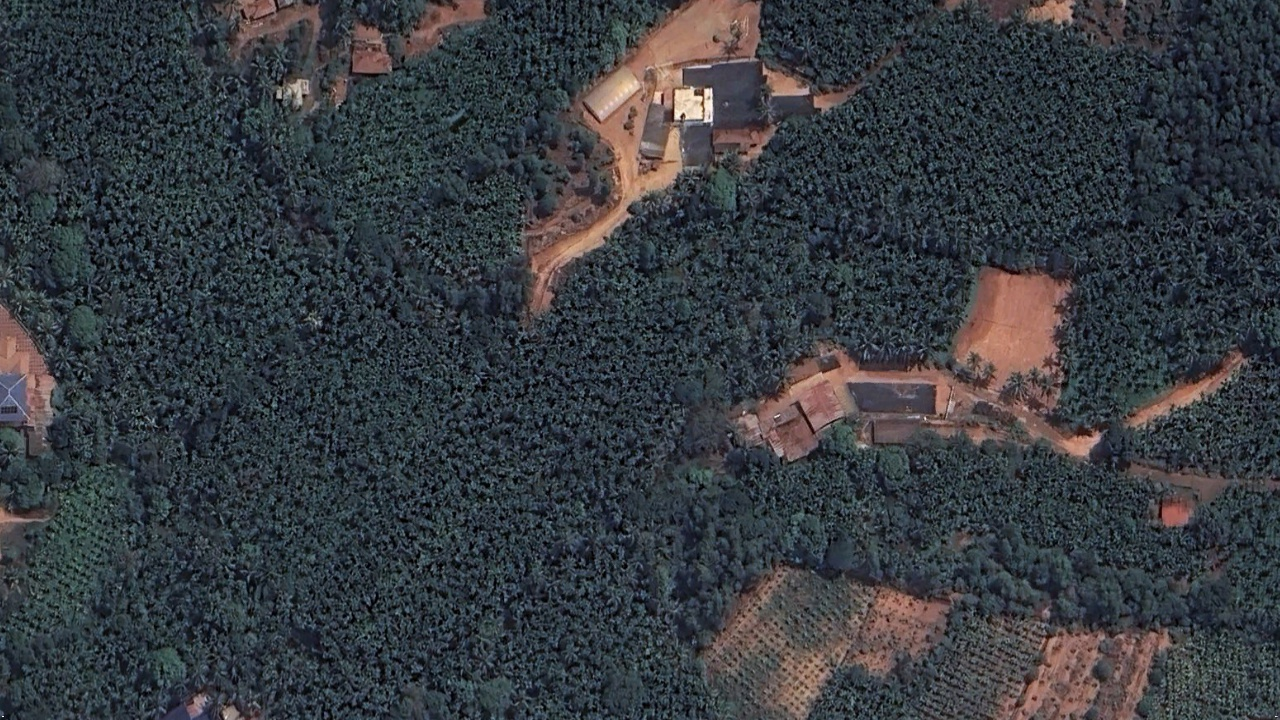arecanut: (6, 4, 1269, 720)
